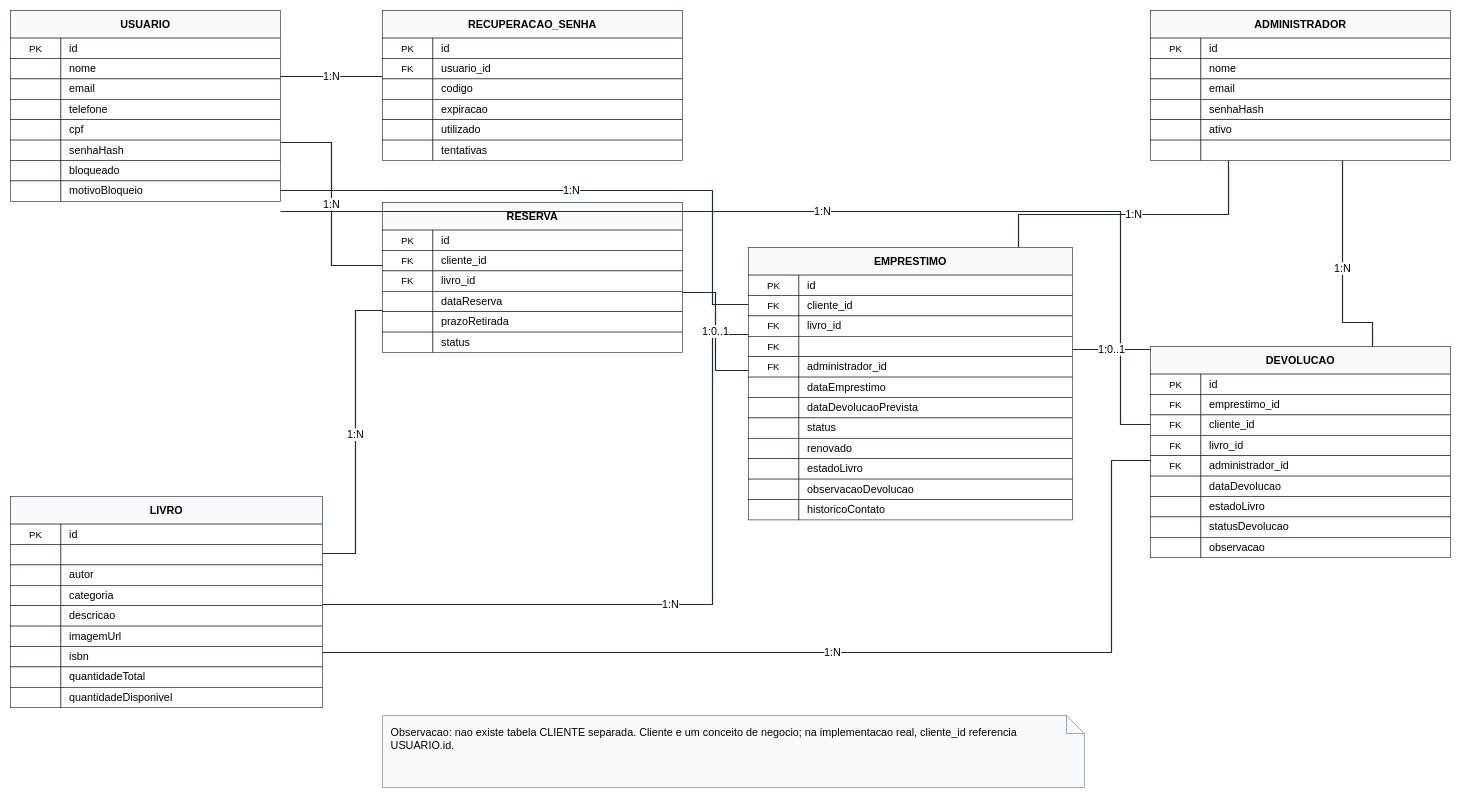
Some shapes in this 1461 by 798 pixel diagram are drawn without their labels. The centre of each missing label's shape, as x and y in pixels:
reserva_id: the point at 935,346
titulo: the point at 191,554
tokenSessao: the point at 1325,150
